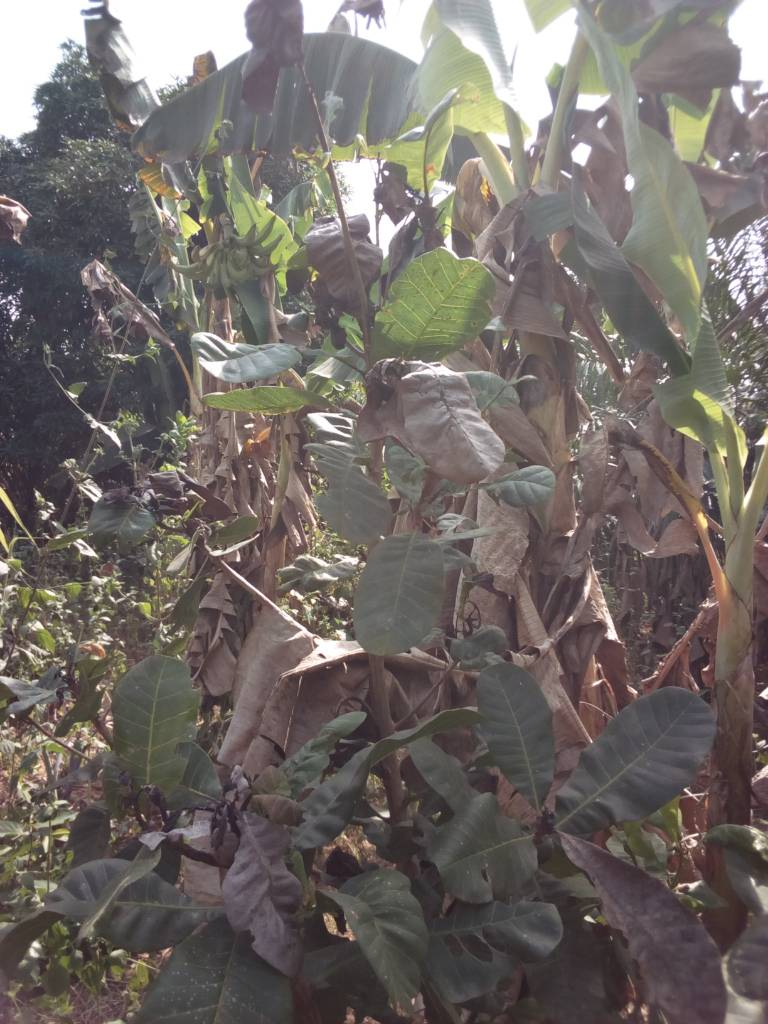Dessèchement des bourgeons: (287, 247, 355, 347), (355, 359, 438, 425), (204, 776, 262, 856)
